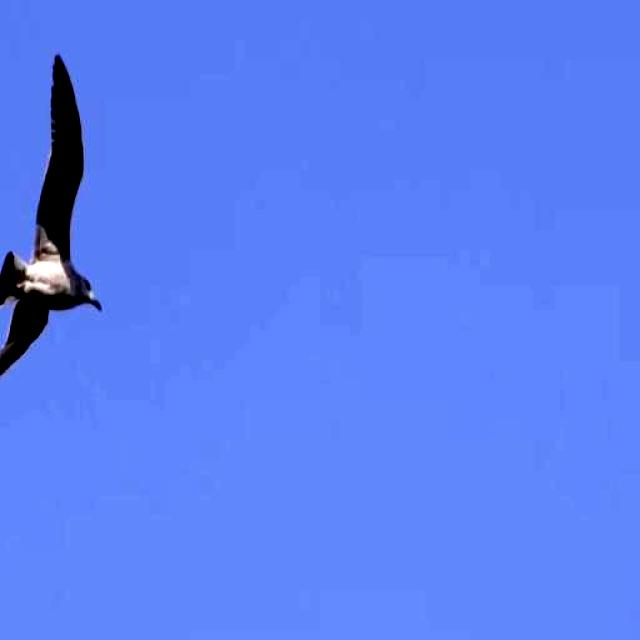airplane: (0, 44, 110, 406)
